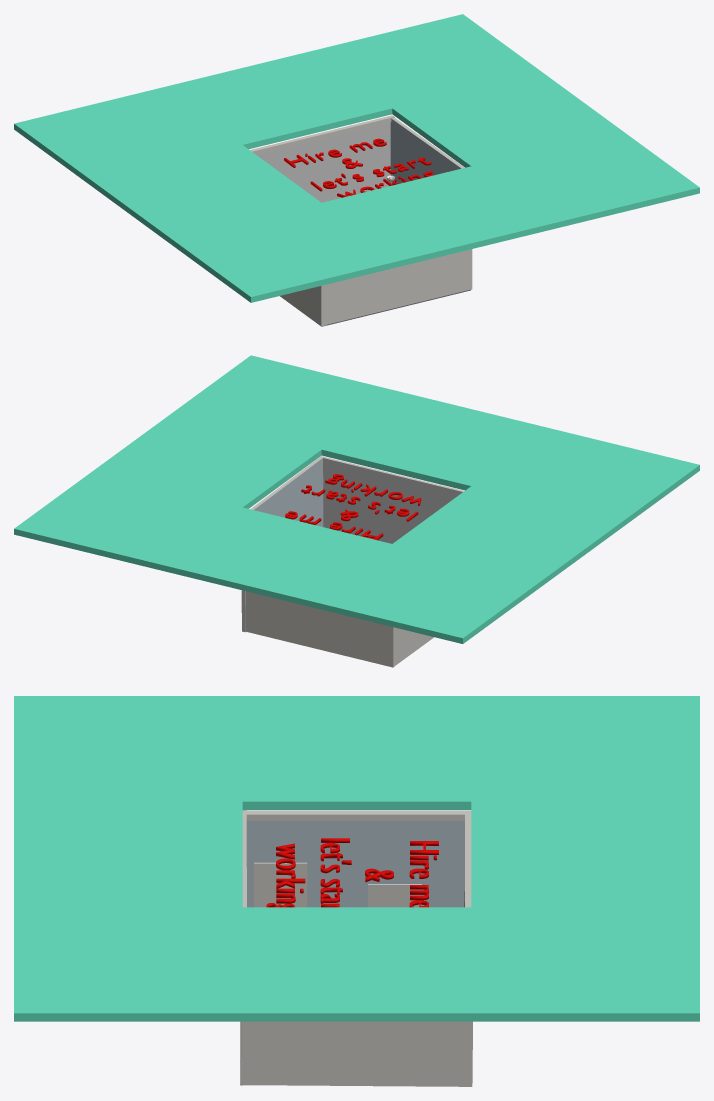
File: myroom.glb
The picture shows the model from 3 angles, top to bottom: view 1: azimuth 30°, elevation 25°; view 2: azimuth 150°, elevation 25°; view 3: azimuth 270°, elevation 25°; orthographic projection. The views are drawn at different scales.
Visible parts, largest first — view 1: Plane, group2134886970, group1987275120, Text, group609791403; view 2: Plane, group2134886970, group1987275120, Text; view 3: Plane, group2134886970, group1987275120, Text, group609791403, group1871896990, group532662748.
Boxes of the visible parts, x1,y1,x2,y2 form: Plane: (14, 14, 699, 302); group2134886970: (324, 117, 472, 324); group1987275120: (250, 115, 393, 326); Text: (284, 138, 433, 197); group609791403: (251, 116, 394, 154); Plane: (14, 355, 699, 643); group2134886970: (241, 456, 464, 632); group1987275120: (245, 591, 433, 667); Text: (285, 474, 421, 540); Plane: (14, 696, 699, 1021); group2134886970: (240, 810, 472, 1086); group1987275120: (246, 811, 471, 1086); Text: (266, 838, 438, 907); group609791403: (246, 813, 467, 907); group1871896990: (256, 865, 305, 907); group532662748: (368, 884, 421, 907).
Size of the model in its own units: 11.99 by 3.16 by 10.96.
